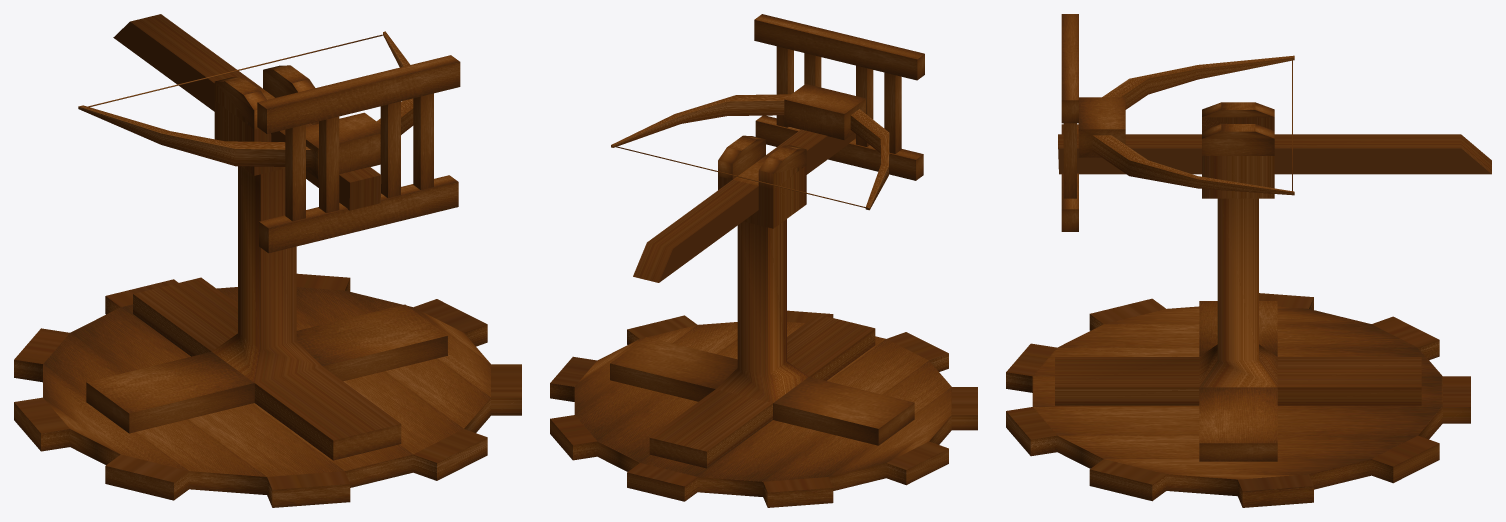
Rendered from ballista.fbx.
The picture shows the model from 3 angles, left to right: view 1: azimuth 30°, elevation 25°; view 2: azimuth 150°, elevation 25°; view 3: azimuth 270°, elevation 25°; orthographic projection. The views are drawn at different scales.
Visible parts, largest first — view 1: Houder, Tandwiel, Cube_6, Cube_1, Cube, Cube_3, Cube_4, Cube_5, Cube_2, Cylinder; view 2: Houder, Tandwiel, Cube_6, Cube_1, Cube, Cube_5, Cube_4, Cube_3, Cube_2; view 3: Houder, Tandwiel, Cube_6, Cube_1, Cube_4, Cube.
Part boxes in pixels (left/top/right/bottom): Houder: left=86, top=14, right=447, bottom=460; Tandwiel: left=14, top=273, right=521, bottom=507; Cube_6: left=78, top=31, right=413, bottom=179; Cube_1: left=257, top=55, right=460, bottom=133; Cube: left=259, top=175, right=458, bottom=253; Cube_3: left=319, top=116, right=339, bottom=213; Cube_4: left=413, top=93, right=433, bottom=189; Cube_5: left=285, top=124, right=305, bottom=221; Cube_2: left=380, top=101, right=400, bottom=198; Cylinder: left=88, top=34, right=382, bottom=107; Houder: left=610, top=129, right=914, bottom=468; Tandwiel: left=550, top=310, right=977, bottom=507; Cube_6: left=611, top=84, right=889, bottom=210; Cube_1: left=754, top=14, right=924, bottom=80; Cube: left=755, top=115, right=923, bottom=180; Cube_5: left=884, top=72, right=901, bottom=153; Cube_4: left=776, top=46, right=793, bottom=127; Cube_3: left=856, top=65, right=873, bottom=146; Cube_2: left=804, top=53, right=821, bottom=87; Houder: left=1055, top=102, right=1491, bottom=461; Tandwiel: left=1006, top=293, right=1470, bottom=507; Cube_6: left=1078, top=55, right=1294, bottom=195; Cube_1: left=1061, top=14, right=1078, bottom=123; Cube_4: left=1063, top=123, right=1076, bottom=198; Cube: left=1061, top=124, right=1078, bottom=231.
Bounding box in the file's own units: 232 × 190 × 239.
Materials: 1 (1 with a texture image).
